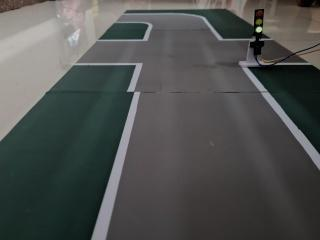green: (251, 6, 267, 41)
